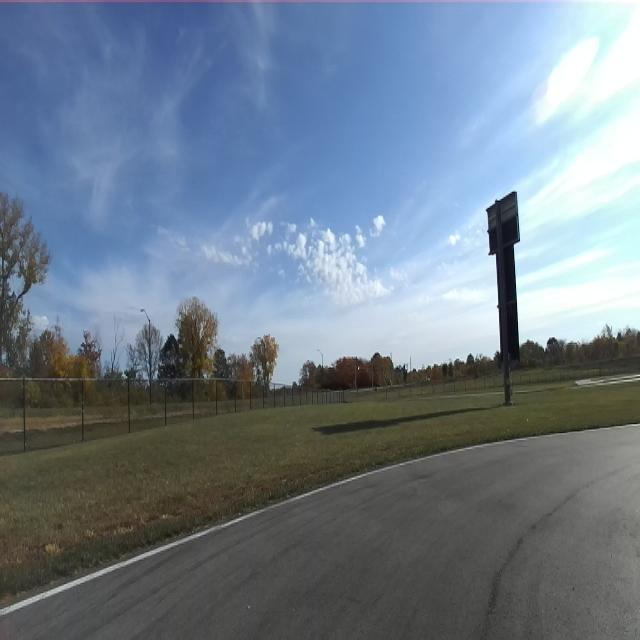white-line: (0, 431, 579, 618), (576, 423, 640, 433)
